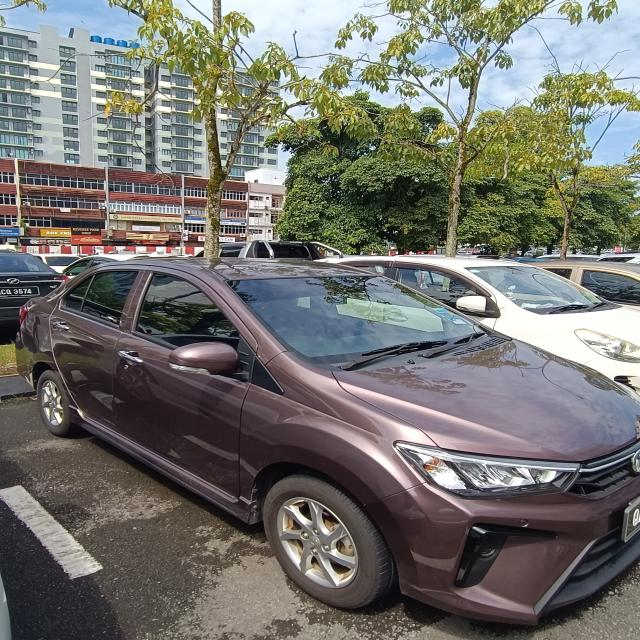PeroduaBezza: (13, 254, 640, 626)
